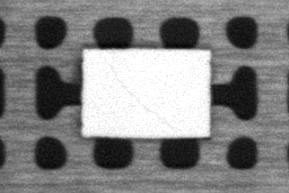DIE_CRACK: (104, 60, 178, 132)
